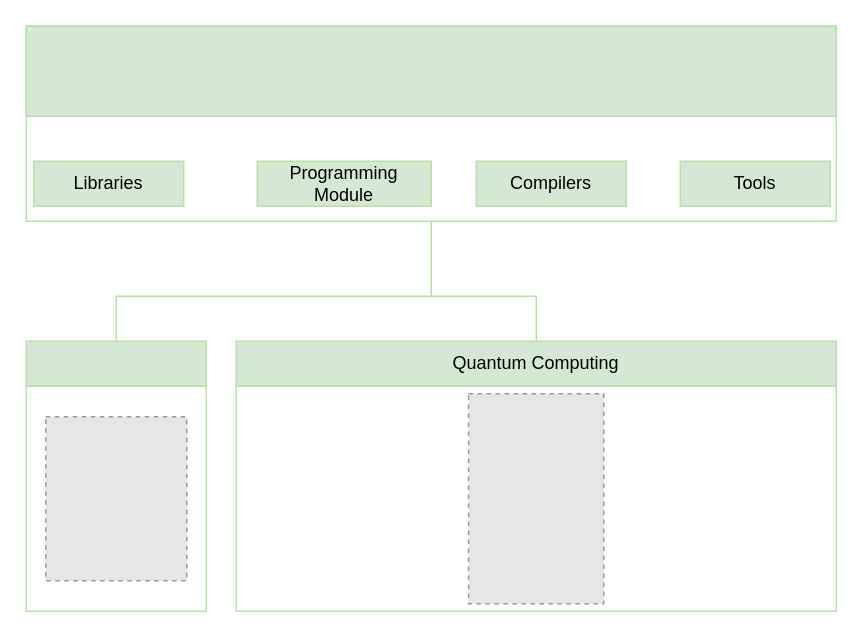
Image size: 863x638. Some labels were removed from this diagram. Grey dashed boxes stand in for pictures. Here are the shapes that lost their labels. From the top down, the box of each, then its label:
(25, 25, 836, 116): MUSA-Q
(25, 340, 206, 386): Supercomputing
